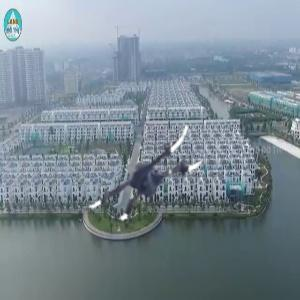drone: (79, 104, 207, 232)
